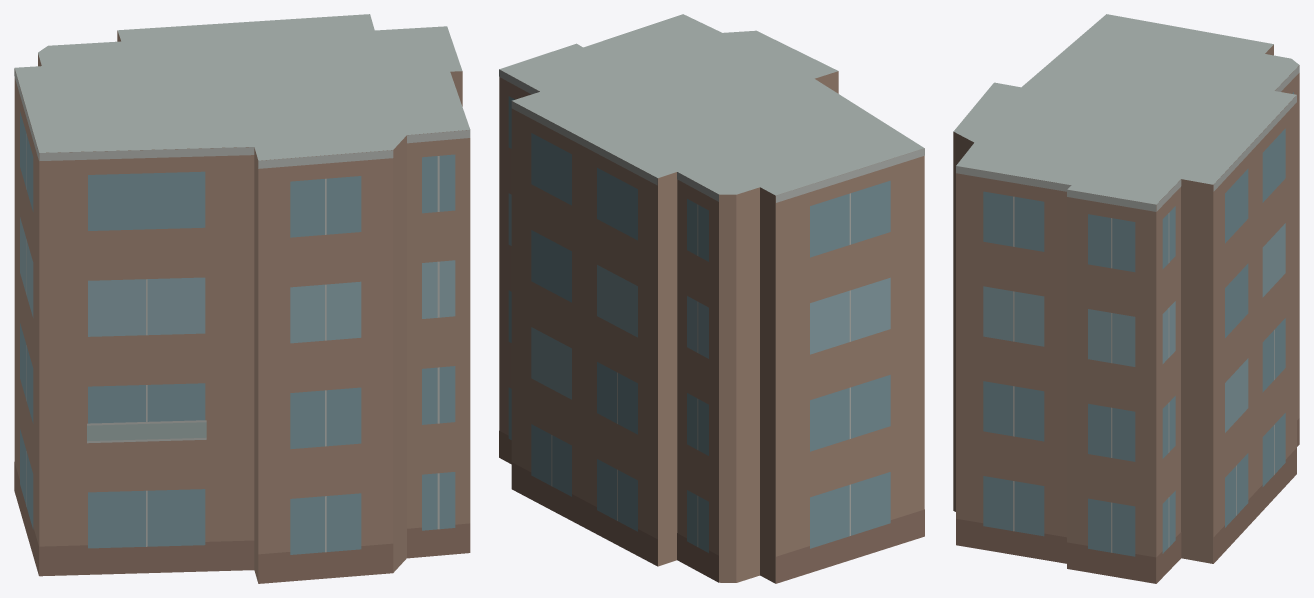
The model's file is survey-upis-32524668.glb.
The picture shows the model from 3 angles, left to right: view 1: azimuth 30°, elevation 25°; view 2: azimuth 150°, elevation 25°; view 3: azimuth 270°, elevation 25°; orthographic projection. The views are drawn at different scales.
Parts seen in each view (by area): view 1: survey-upis-32524668.tmp; view 2: survey-upis-32524668.tmp; view 3: survey-upis-32524668.tmp.
Part boxes in pixels (x1,y1,x2,y2): survey-upis-32524668.tmp: (14, 14, 470, 583); survey-upis-32524668.tmp: (499, 14, 924, 583); survey-upis-32524668.tmp: (953, 14, 1299, 583).
Bounding box in the file's own units: 13.59 × 12.6 × 10.43.
